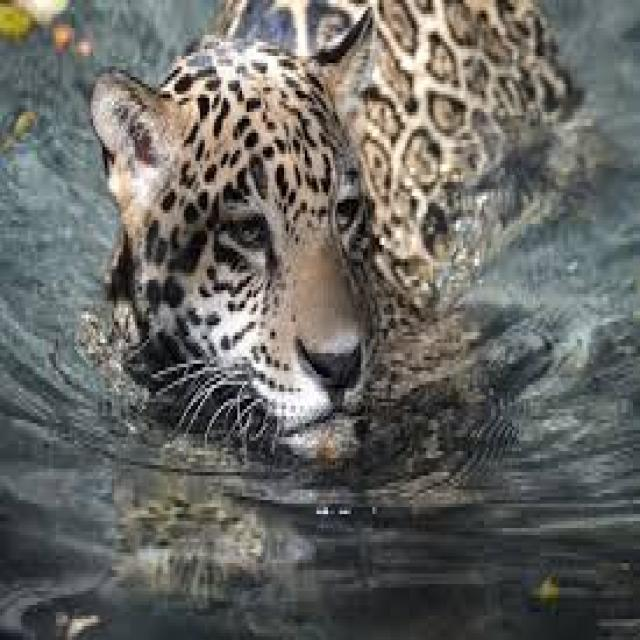Jaguar: (88, 4, 572, 437)
